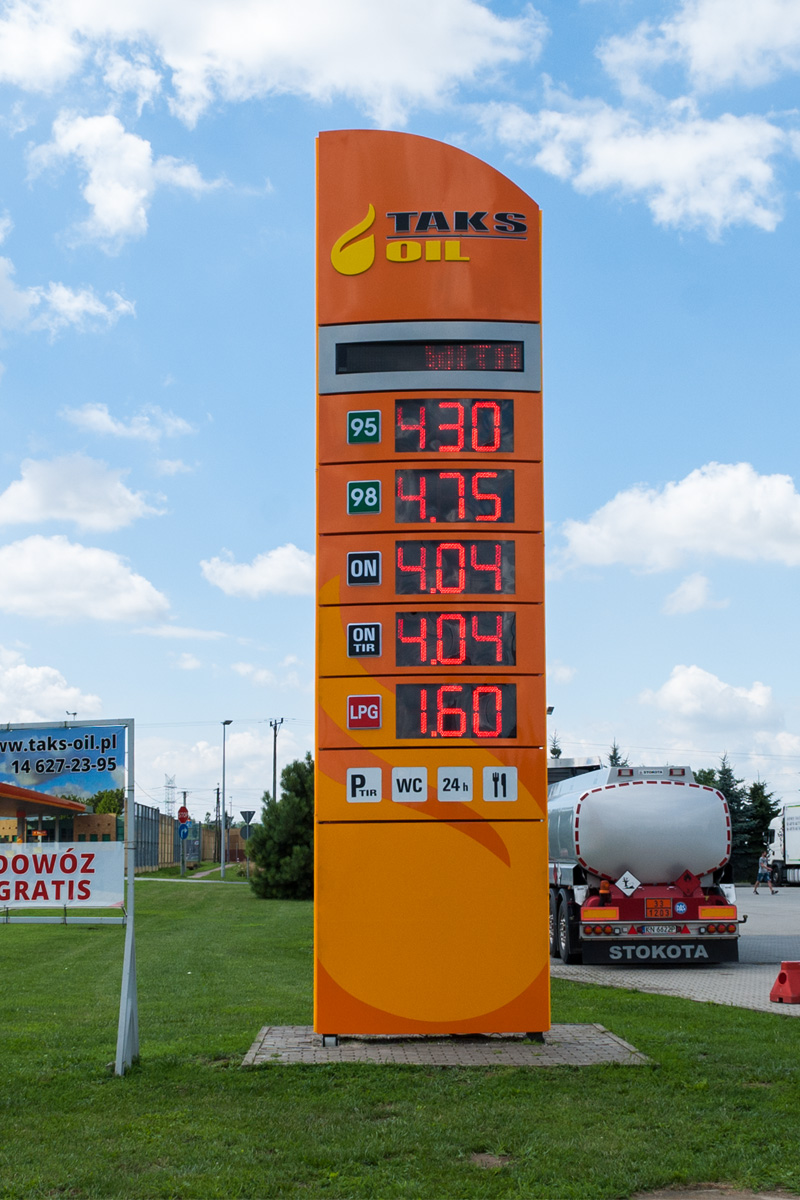LPG: (345, 693, 382, 731)
ON: (343, 544, 385, 588), (341, 618, 382, 659)
PB95: (346, 406, 382, 446)
PB98: (346, 473, 384, 516)
